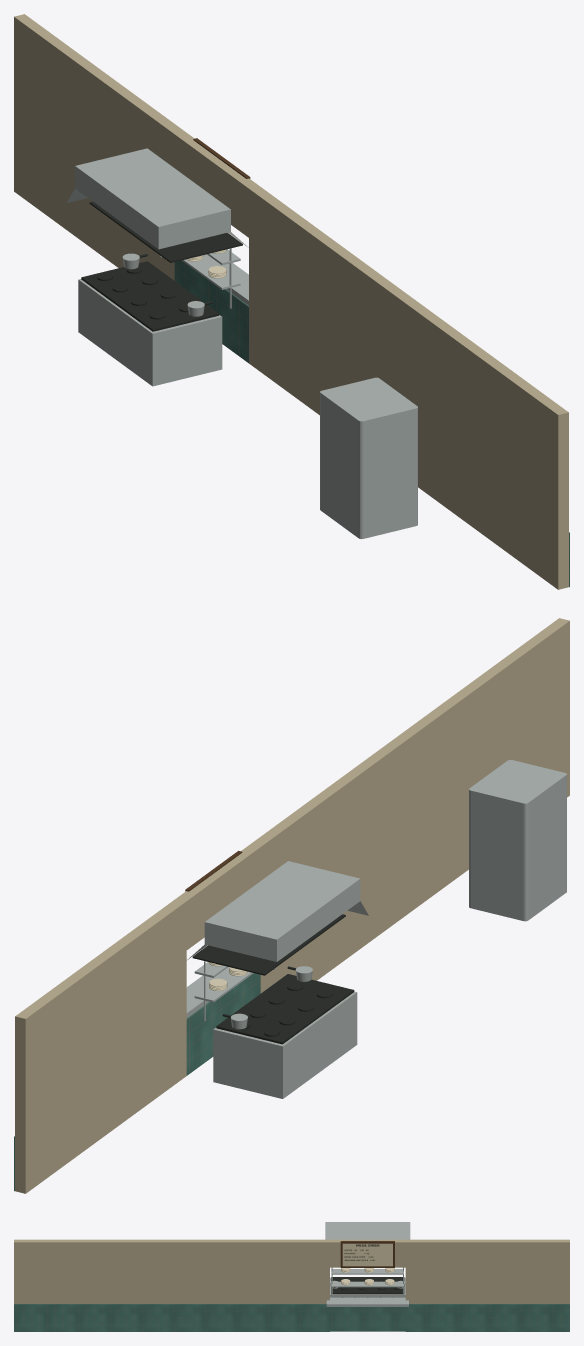
Rendered from SM_Mesa_Kitchen.glb.
The picture shows the model from 3 angles, top to bottom: view 1: azimuth 30°, elevation 25°; view 2: azimuth 150°, elevation 25°; view 3: azimuth 270°, elevation 25°; orthographic projection. The views are drawn at different scales.
Parts seen in each view (by area): view 1: SM_Mesa_Kitchen; view 2: SM_Mesa_Kitchen; view 3: SM_Mesa_Kitchen.
Part boxes in pixels (<box>): SM_Mesa_Kitchen: <box>14,14,569,589</box>; SM_Mesa_Kitchen: <box>14,618,569,1193</box>; SM_Mesa_Kitchen: <box>14,1222,569,1331</box>.
Bounding box in the file's own units: 2.37 × 3.14 × 17.6.
8 materials, 3 textured.
